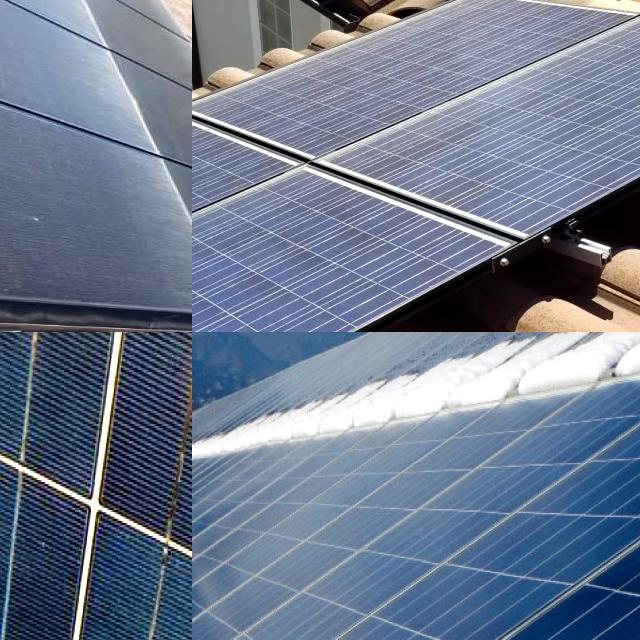dust: (328, 42, 592, 176), (192, 202, 364, 329), (560, 60, 640, 165), (192, 235, 255, 332), (192, 132, 255, 227), (130, 0, 192, 22), (0, 0, 44, 27)
panel: (467, 332, 610, 395), (344, 349, 460, 419), (214, 389, 332, 436), (192, 438, 250, 469)
shadow: (162, 332, 192, 570)
